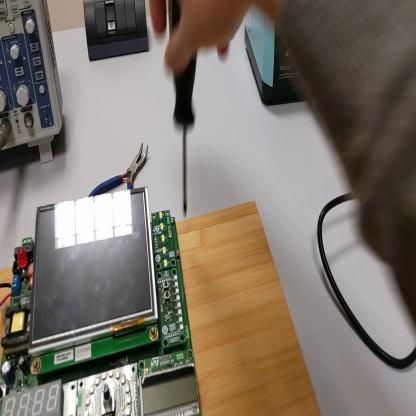hand: (149, 2, 253, 76)
low voltage board: (1, 187, 202, 416)
oscilloscope: (2, 3, 65, 173)
pliers: (91, 143, 151, 198)
screwdriver-: (170, 24, 197, 218)
welder station: (247, 7, 310, 108)
working area: (2, 202, 322, 415)
